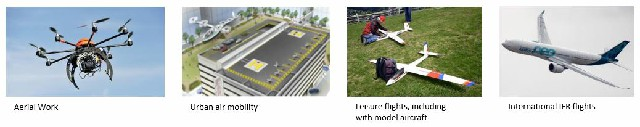maybay_khongnguoilai: (26, 17, 146, 85), (368, 42, 470, 92)
